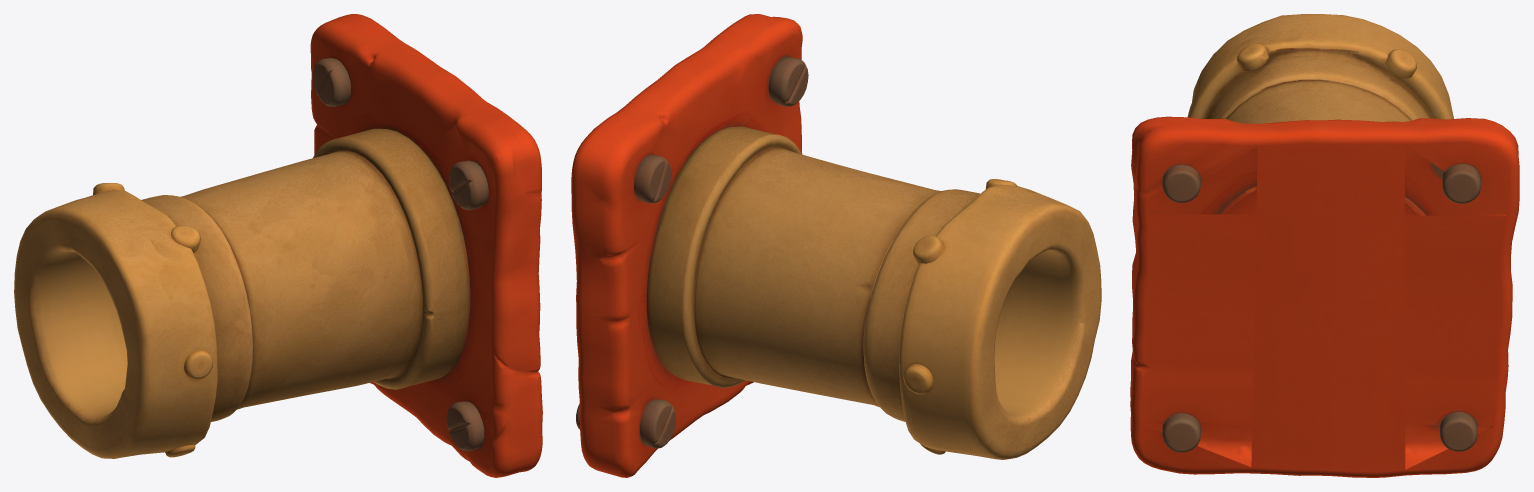
Rendered from clay-pipe-nozzle.glb.
The picture shows the model from 3 angles, left to right: view 1: azimuth 30°, elevation 25°; view 2: azimuth 150°, elevation 25°; view 3: azimuth 270°, elevation 25°; orthographic projection.
Visible parts, largest first — view 1: clay-pipe-nozzle; view 2: clay-pipe-nozzle; view 3: clay-pipe-nozzle.
Part boxes in pixels (<box>): clay-pipe-nozzle: <box>14,14,542,477</box>; clay-pipe-nozzle: <box>571,14,1101,477</box>; clay-pipe-nozzle: <box>1130,14,1519,477</box>.
Size of the model in its own units: 0.9995 by 0.8481 by 0.8618.
1 material, 1 textured.
